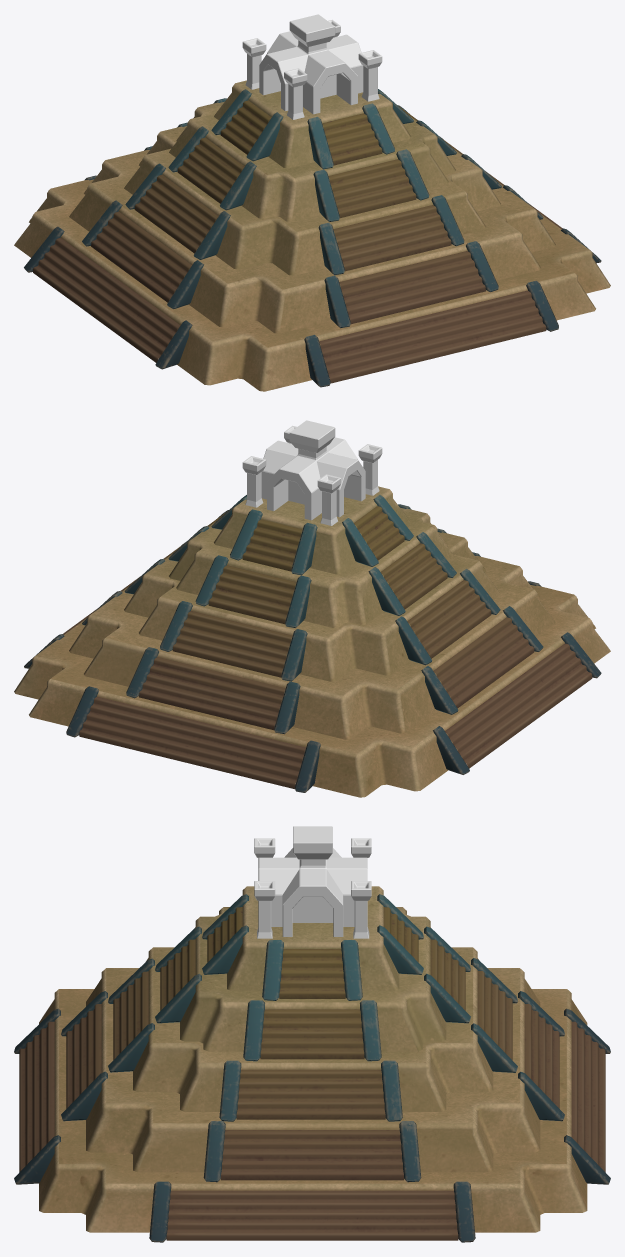
The model's file is Piramide2_low.fbx.
3 views of the same model, one above another, from view 1: azimuth 30°, elevation 25°; view 2: azimuth 150°, elevation 25°; view 3: azimuth 270°, elevation 25° (orthographic). The views are drawn at different scales.
Parts seen in each view (by area): view 1: Piramide_1_low, Piramide_2_low, Piramide_3_low, Piramide_4_low, Piramide_5_low, Piramide_6_low; view 2: Piramide_1_low, Piramide_2_low, Piramide_3_low, Piramide_4_low, Piramide_5_low, Piramide_6_low; view 3: Piramide_1_low, Piramide_2_low, Piramide_3_low, Piramide_4_low, Piramide_5_low, Piramide_6_low.
Part boxes in pixels (x1=…): Piramide_1_low: x1=14, y1=136, x2=610, y2=391; Piramide_2_low: x1=69, y1=146, x2=555, y2=333; Piramide_3_low: x1=124, y1=105, x2=501, y2=275; Piramide_4_low: x1=168, y1=98, x2=456, y2=221; Piramide_5_low: x1=211, y1=80, x2=413, y2=169; Piramide_6_low: x1=242, y1=14, x2=382, y2=119; Piramide_1_low: x1=14, y1=542, x2=610, y2=797; Piramide_2_low: x1=69, y1=552, x2=555, y2=739; Piramide_3_low: x1=124, y1=510, x2=500, y2=681; Piramide_4_low: x1=168, y1=504, x2=456, y2=627; Piramide_5_low: x1=211, y1=486, x2=413, y2=575; Piramide_6_low: x1=242, y1=420, x2=382, y2=525; Piramide_1_low: x1=14, y1=989, x2=610, y2=1242; Piramide_2_low: x1=61, y1=968, x2=564, y2=1182; Piramide_3_low: x1=108, y1=947, x2=517, y2=1121; Piramide_4_low: x1=155, y1=907, x2=470, y2=1061; Piramide_5_low: x1=202, y1=886, x2=423, y2=1000; Piramide_6_low: x1=254, y1=826, x2=371, y2=938.
Size of the model in its own units: 4001 by 2089 by 4001.
